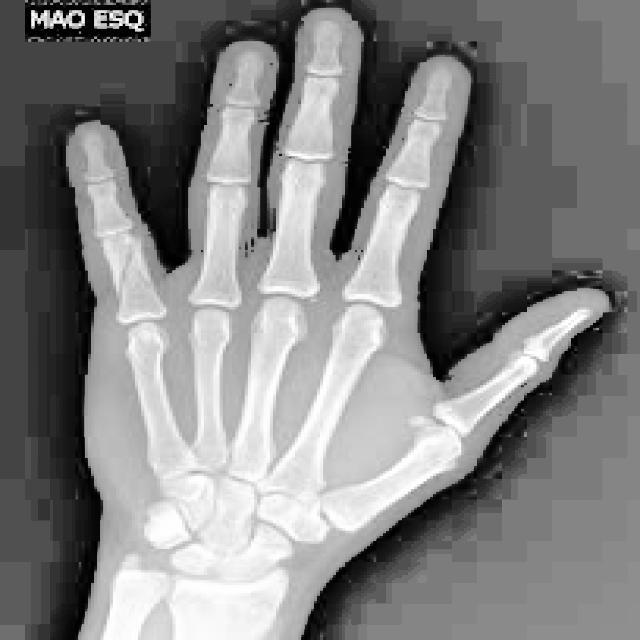Comminuted Fracture: (102, 244, 145, 304), (396, 394, 444, 444)
